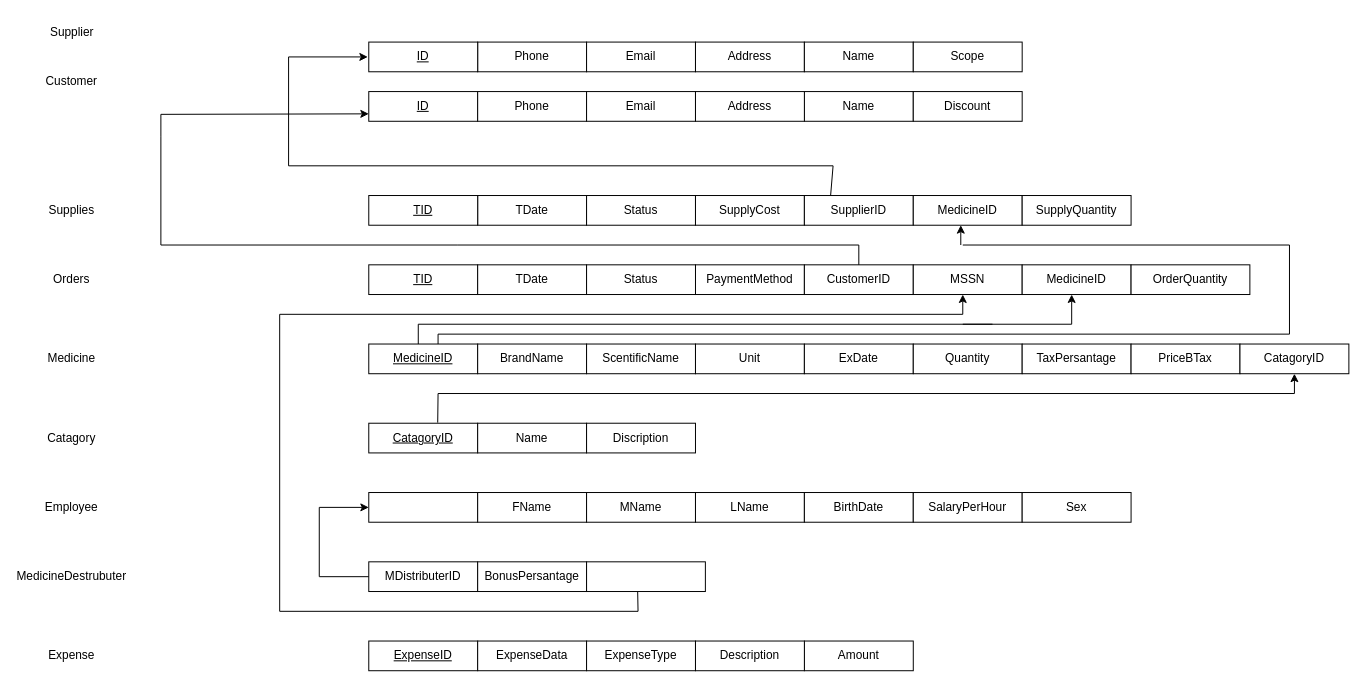
The diagram is 1366 pixels wide and 688 high, and some of its shapes have lost their labels. The box of each missing label's shape, as (x1, y1, x2, y2) in pixels:
MdistributerID2: (586, 561, 705, 592)
SSN: (368, 492, 478, 522)
